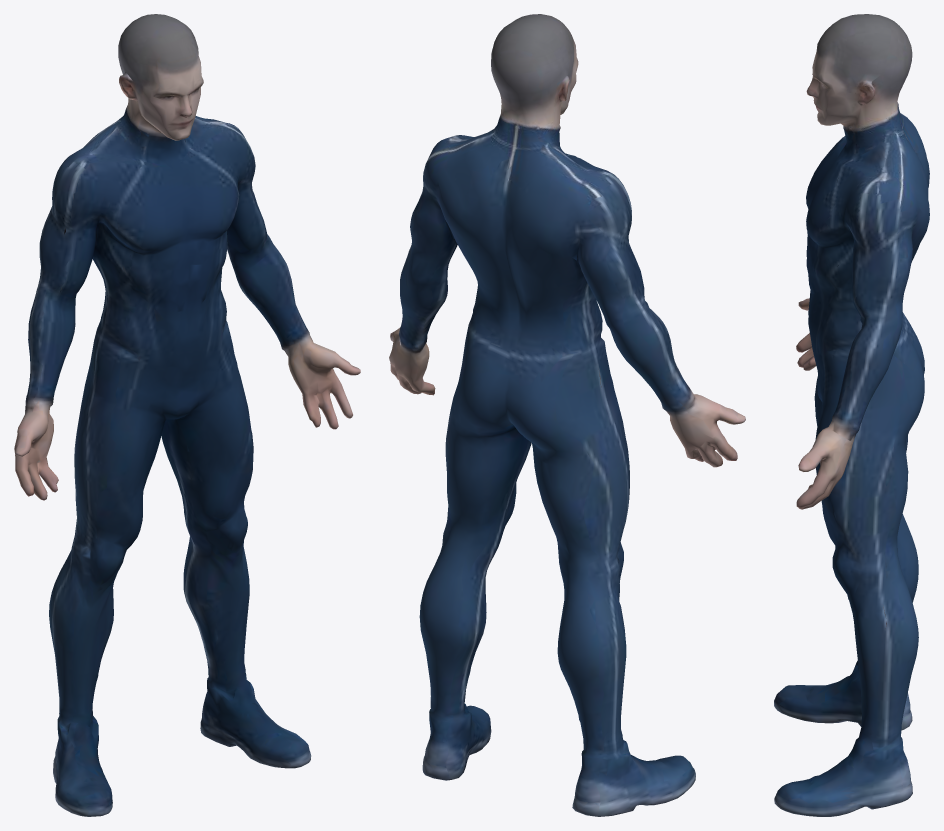
File: base_body_m.glb
3 renders of one model, left to right at view 1: azimuth 30°, elevation 25°; view 2: azimuth 150°, elevation 25°; view 3: azimuth 270°, elevation 25°, orthographic. The views are drawn at different scales.
Visible parts, largest first — view 1: base_body_m; view 2: base_body_m; view 3: base_body_m.
Part boxes in pixels (x1,y1,x2,y2): base_body_m: (14,14,360,816); base_body_m: (389,14,745,816); base_body_m: (774,14,929,816).
Size of the model in its own units: 0.8955 by 1.85 by 0.3506.
Materials: 1 (1 with a texture image).
